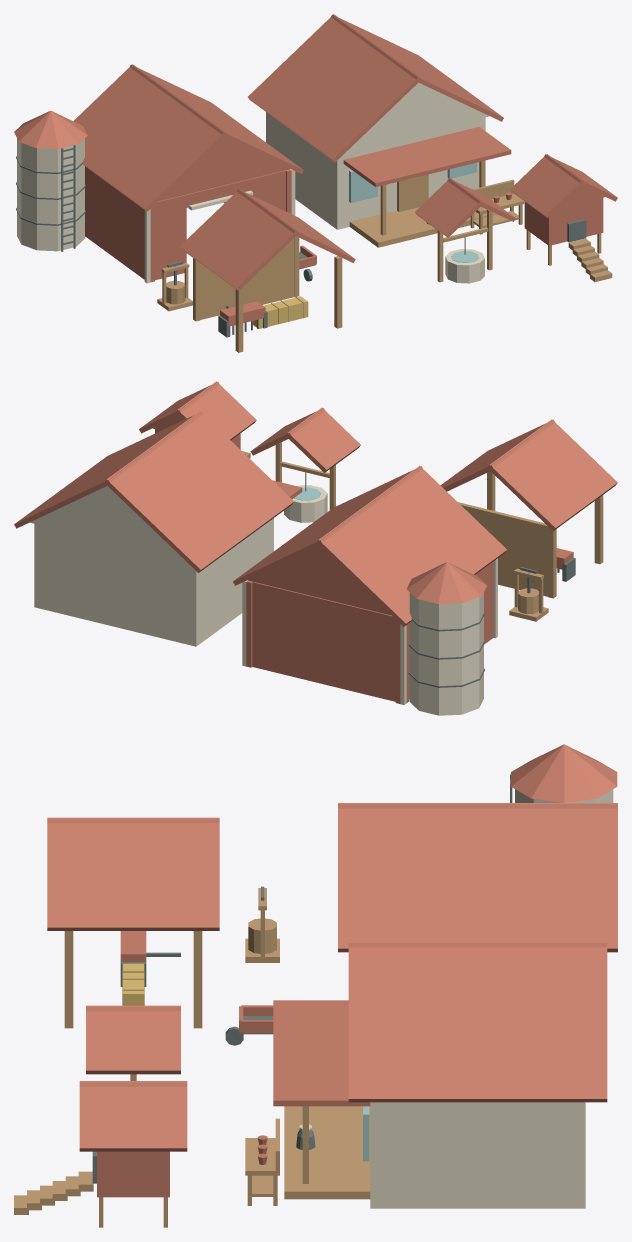
Rendered from farmyard.glb.
3 views of the same model, one above another, from view 1: azimuth 30°, elevation 25°; view 2: azimuth 150°, elevation 25°; view 3: azimuth 270°, elevation 25° (orthographic). The views are drawn at different scales.
Visible parts, largest first — view 1: 000-gable-barn/1, 001-farmhouse-porch/2, 001-farmhouse-porch/0, 002-open-equipment-shed/1, 003-grain-silo/0, 004-henhouse/1, 002-open-equipment-shed/0, 001-farmhouse-porch/1, 005-well-canopy/2, 003-grain-silo/1, 003-grain-silo/2, 012-potting-bench/0 (+8 smaller); view 2: 000-gable-barn/1, 001-farmhouse-porch/0, 001-farmhouse-porch/2, 002-open-equipment-shed/1, 003-grain-silo/0, 002-open-equipment-shed/0, 005-well-canopy/2, 004-henhouse/1, 003-grain-silo/1, 000-gable-barn/0, 011-apple-press/0, 005-well-canopy/0 (+2 smaller); view 3: 001-farmhouse-porch/2, 000-gable-barn/1, 001-farmhouse-porch/0, 002-open-equipment-shed/1, 004-henhouse/1, 001-farmhouse-porch/1, 005-well-canopy/2, 003-grain-silo/1, 004-henhouse/0, 012-potting-bench/0, 002-open-equipment-shed/0, 011-apple-press/0 (+3 smaller).
Part boxes in pixels (x1,y1,x2,y2): 000-gable-barn/1: (73,64,303,282); 001-farmhouse-porch/2: (247,14,511,187); 001-farmhouse-porch/0: (266,82,489,229); 002-open-equipment-shed/1: (179,189,355,290); 003-grain-silo/0: (17,138,84,251); 004-henhouse/1: (510,154,617,245); 002-open-equipment-shed/0: (193,236,342,352); 001-farmhouse-porch/1: (349,160,496,247); 005-well-canopy/2: (415,178,515,237); 003-grain-silo/1: (14,110,87,148); 003-grain-silo/2: (16,145,85,251); 012-potting-bench/0: (470,179,524,234); 000-gable-barn/1: (233,466,506,703); 001-farmhouse-porch/0: (30,486,273,646); 001-farmhouse-porch/2: (14,411,302,572); 002-open-equipment-shed/1: (440,419,617,530); 003-grain-silo/0: (409,592,483,715); 002-open-equipment-shed/0: (458,471,603,598); 005-well-canopy/2: (250,407,360,472); 004-henhouse/1: (139,381,256,449); 003-grain-silo/1: (407,562,486,603); 000-gable-barn/0: (242,558,497,704); 011-apple-press/0: (509,568,548,621); 005-well-canopy/0: (284,485,327,522); 001-farmhouse-porch/2: (273,941,607,1106); 000-gable-barn/1: (338,803,617,952); 001-farmhouse-porch/0: (370,1102,585,1208); 002-open-equipment-shed/1: (47,817,219,930); 004-henhouse/1: (79,1081,187,1197); 001-farmhouse-porch/1: (284,1106,370,1199); 005-well-canopy/2: (86,1005,180,1074); 003-grain-silo/1: (511,744,617,802); 004-henhouse/0: (14,1171,167,1227); 012-potting-bench/0: (245,1118,279,1205); 002-open-equipment-shed/0: (64,931,202,1028); 011-apple-press/0: (245,888,279,962).
Bounding box in the file's own units: 17.76 × 5.42 × 14.03.
